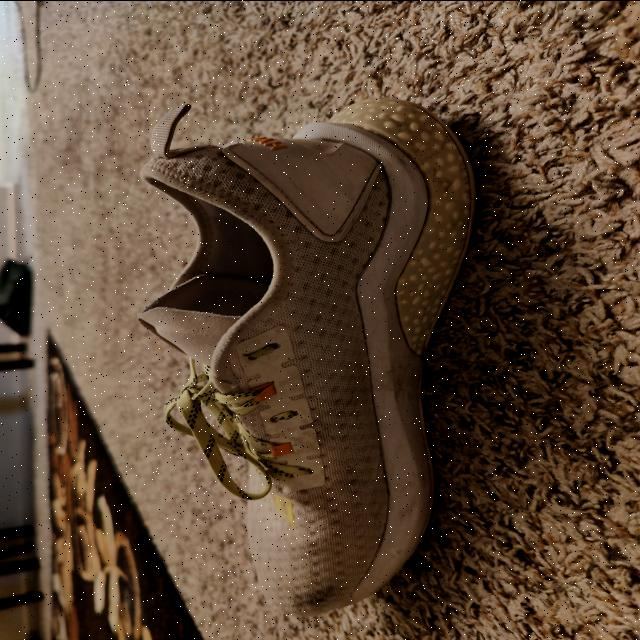white shoes: (138, 97, 474, 591)
